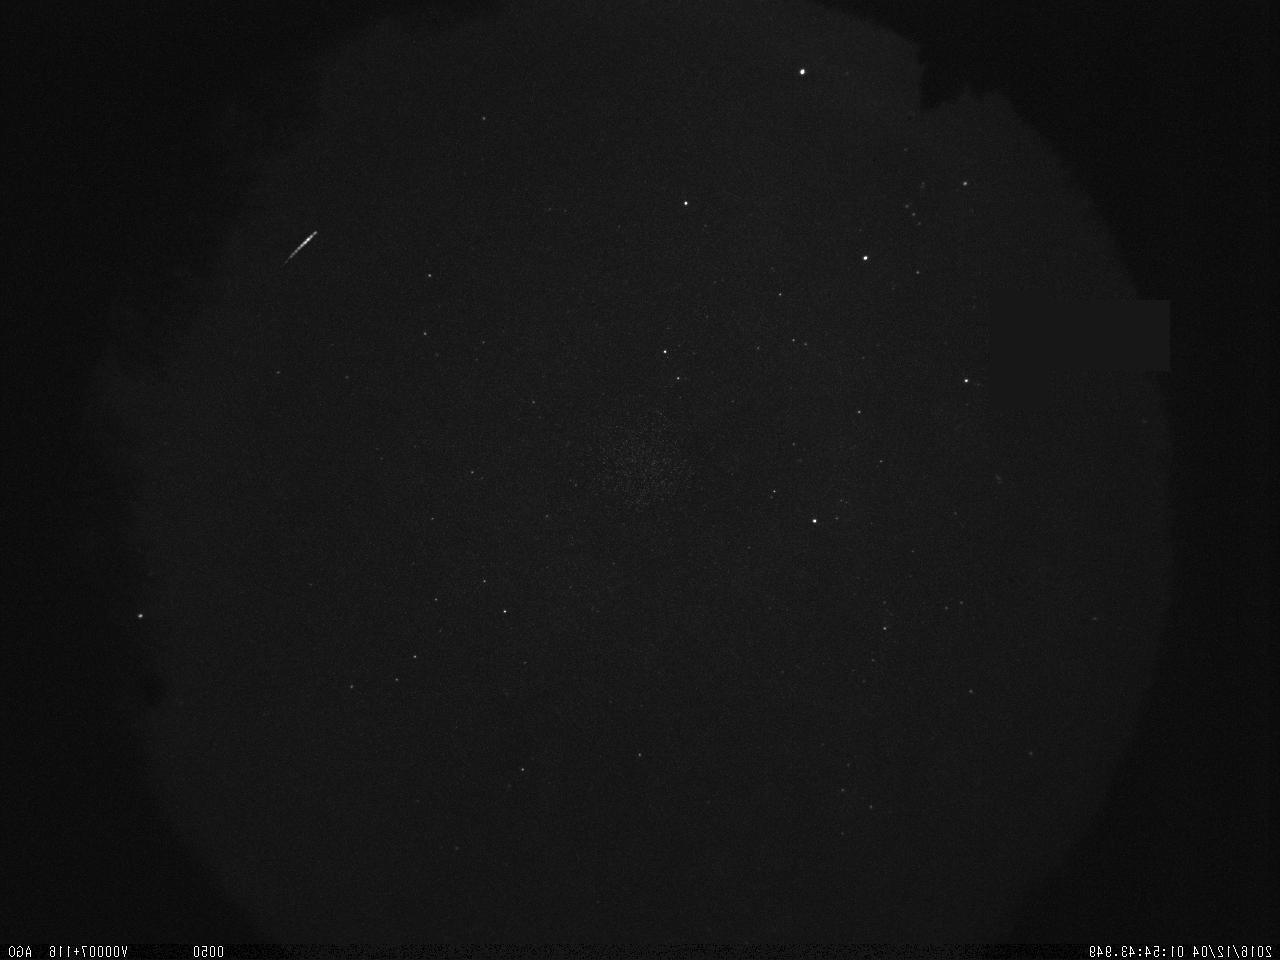meteor: (262, 202, 349, 273)
